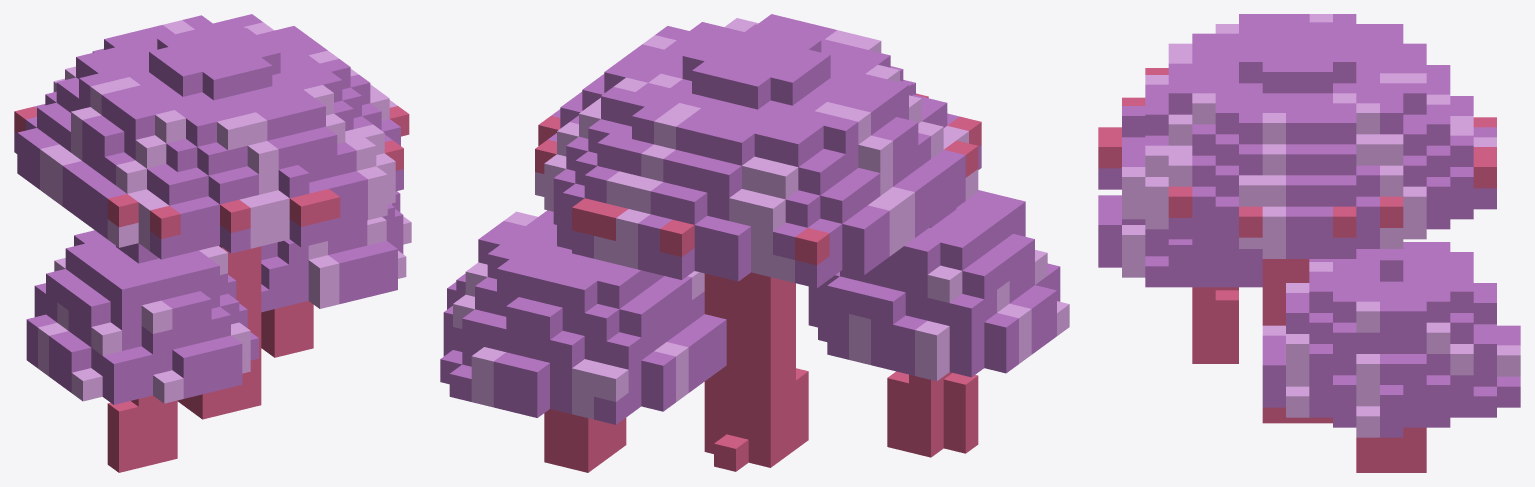
The model's file is mushroom_coral.glb.
3 views of the same model, side by side, from view 1: azimuth 30°, elevation 25°; view 2: azimuth 150°, elevation 25°; view 3: azimuth 270°, elevation 25° (orthographic). The views are drawn at different scales.
Size of the model in its own units: 0.9167 by 0.7083 by 0.75.
